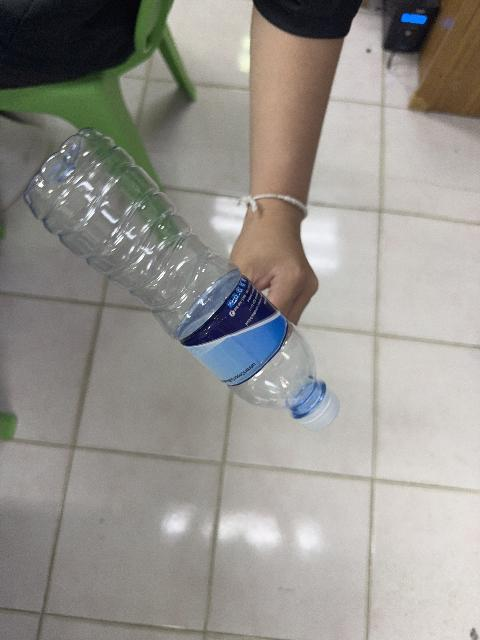bottle: (24, 129, 338, 429)
